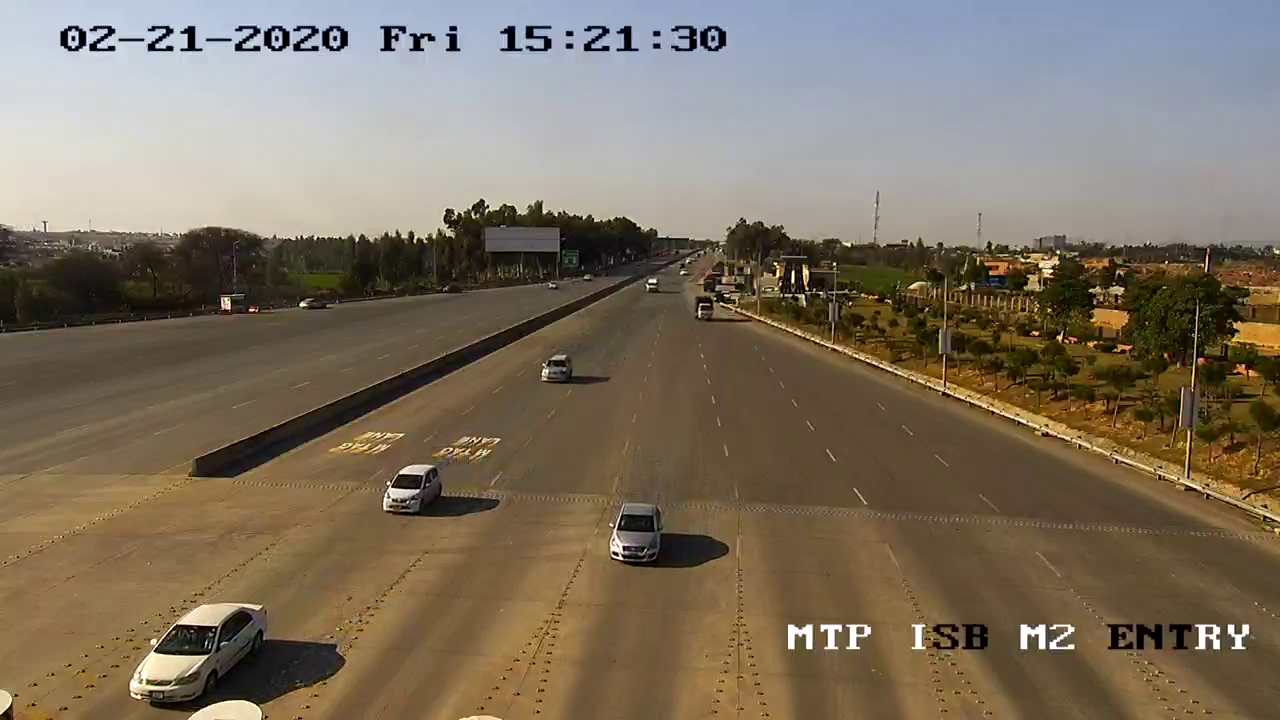f1: (120, 583, 272, 714), (600, 494, 671, 571), (373, 456, 448, 524)
